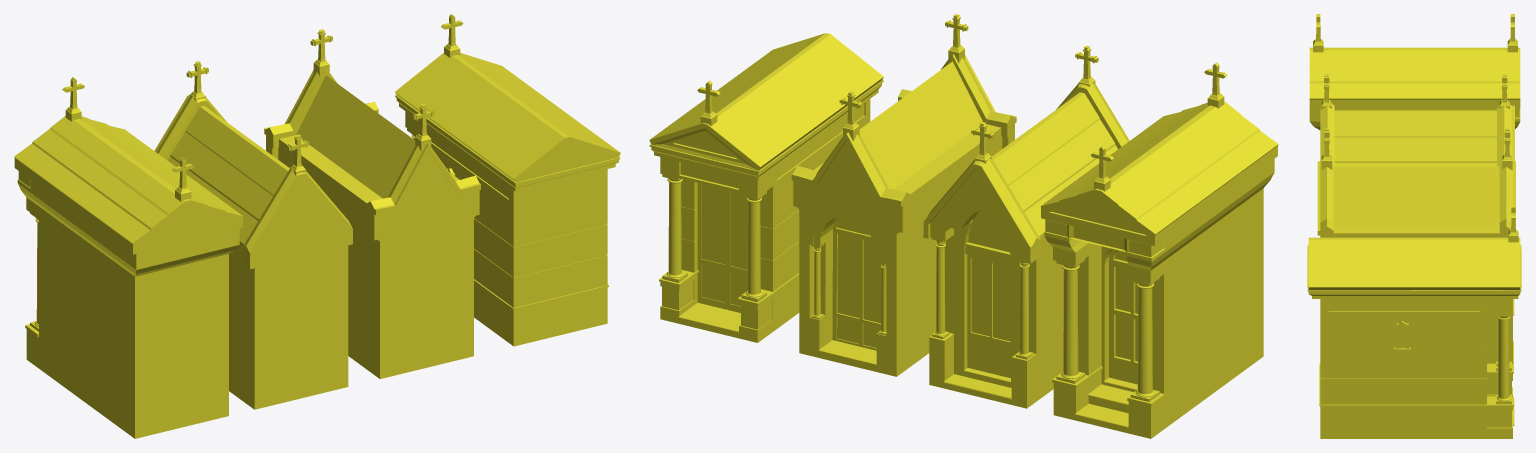
File: Total Assets2.fbx_familytomb.fbx
3 views of the same model, side by side, from view 1: azimuth 30°, elevation 25°; view 2: azimuth 150°, elevation 25°; view 3: azimuth 270°, elevation 25° (orthographic). The views are drawn at different scales.
Parts seen in each view (by area): view 1: familytomb04, familytomb01, familytomb02, familytomb03; view 2: familytomb04, familytomb01, familytomb02, familytomb03; view 3: familytomb01, familytomb02, familytomb04, familytomb03.
Boxes of the visible parts, x1,y1,x2,y2 form: familytomb04: [14, 77, 243, 438]; familytomb01: [395, 14, 620, 346]; familytomb02: [264, 29, 480, 378]; familytomb03: [154, 61, 352, 409]; familytomb04: [1040, 62, 1278, 438]; familytomb01: [649, 33, 883, 342]; familytomb02: [791, 14, 1016, 376]; familytomb03: [923, 45, 1129, 408]; familytomb01: [1307, 204, 1521, 438]; familytomb02: [1317, 128, 1515, 380]; familytomb04: [1309, 14, 1520, 129]; familytomb03: [1320, 74, 1514, 315].
Size of the model in its own units: 1039 by 550 by 445.
